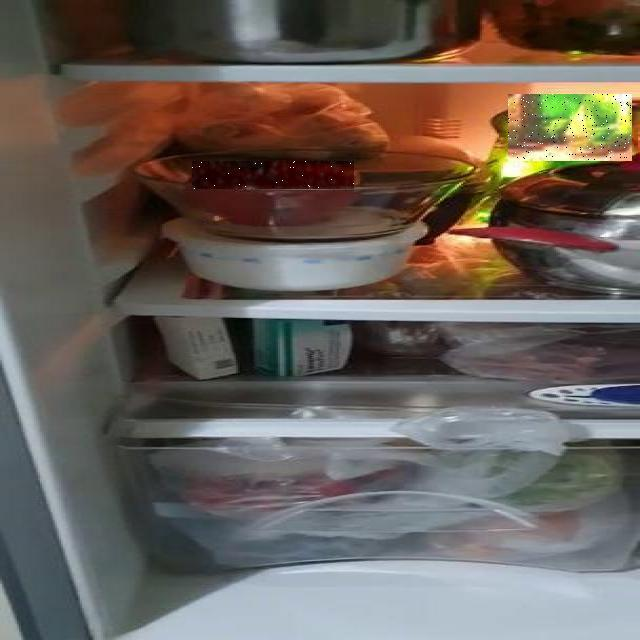Tomato Paste: (192, 161, 354, 189)
Water: (508, 94, 632, 161)
